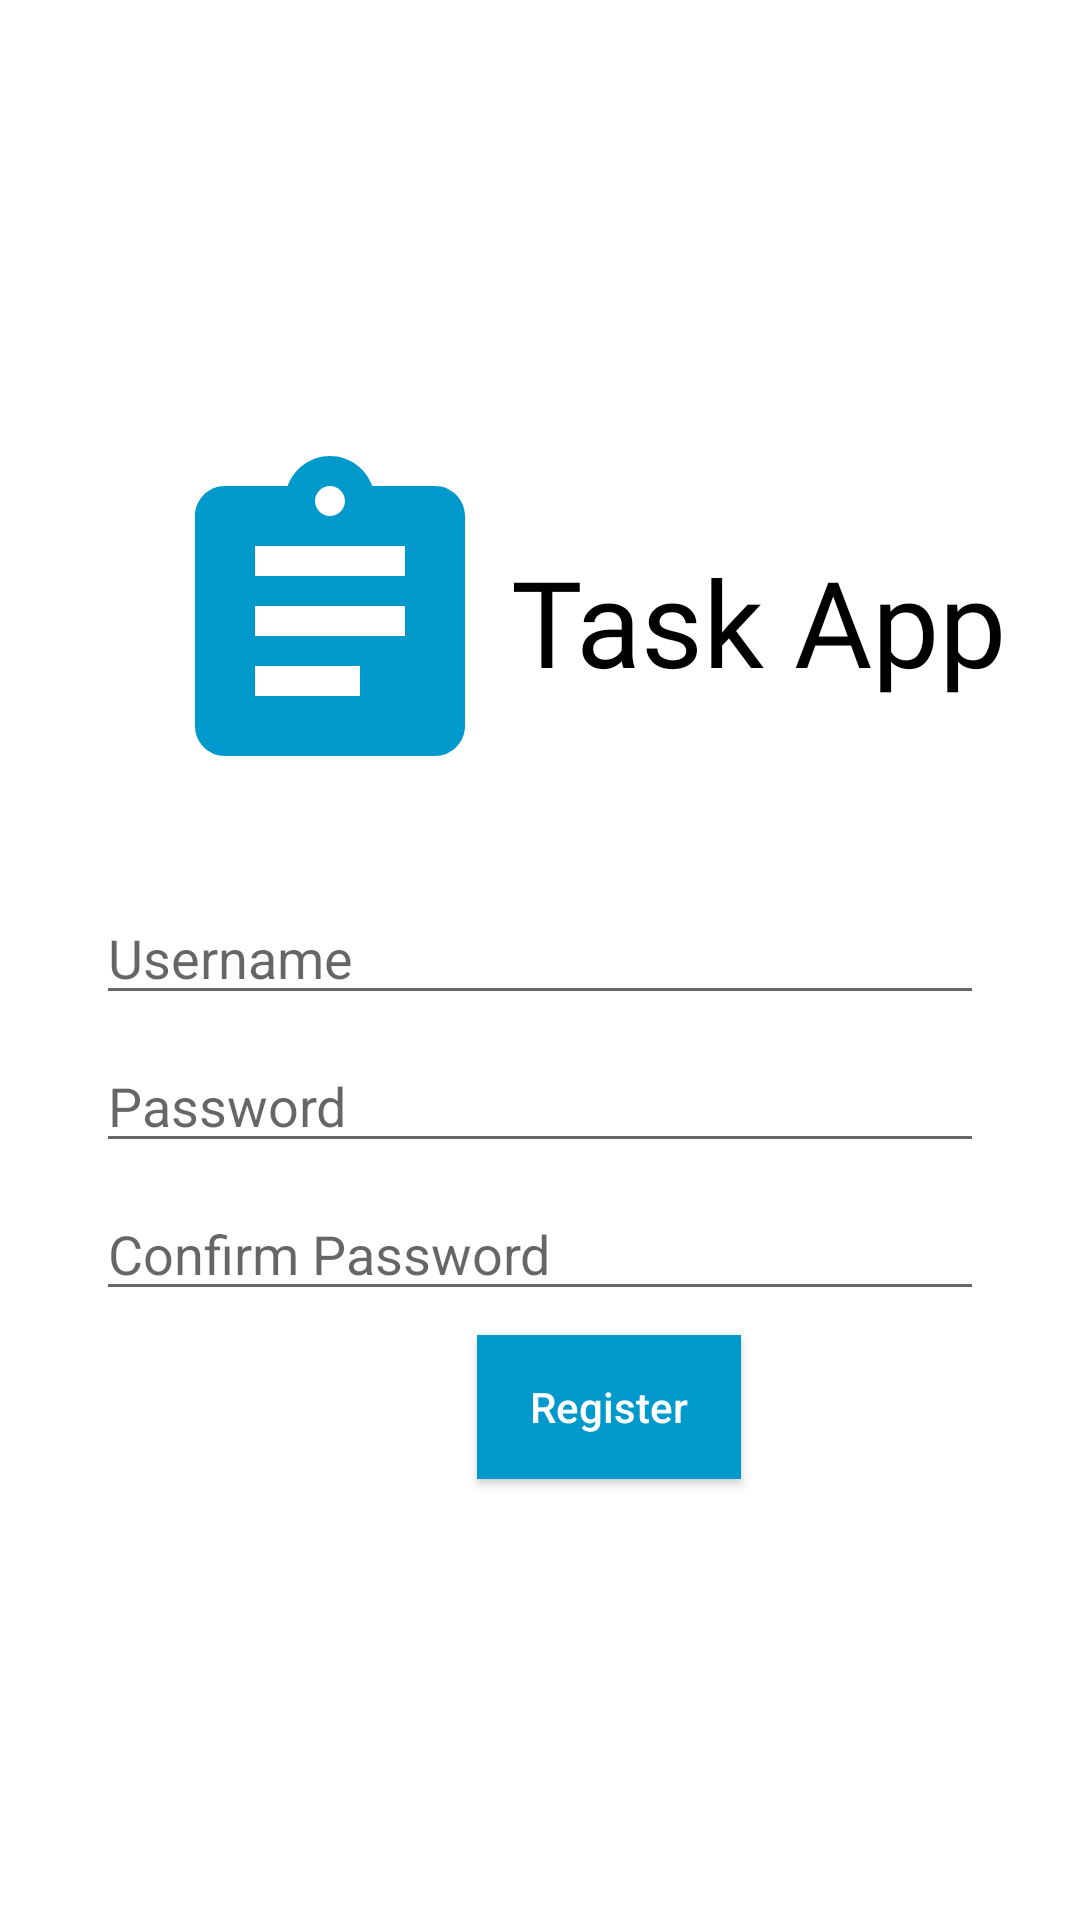

Icon bounding boxes for this 1080px x 1920px phone screenshot, format (x1, y1, x2, y2):
assignment: (195, 456, 465, 756)
